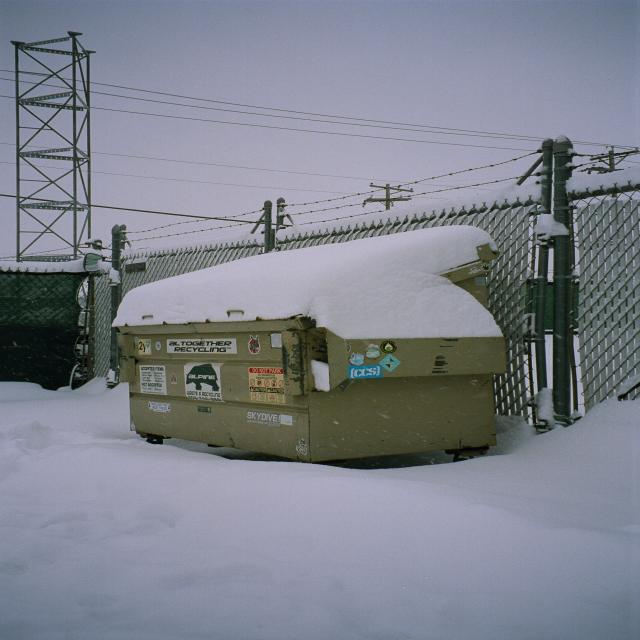Metal: (113, 234, 546, 455)
